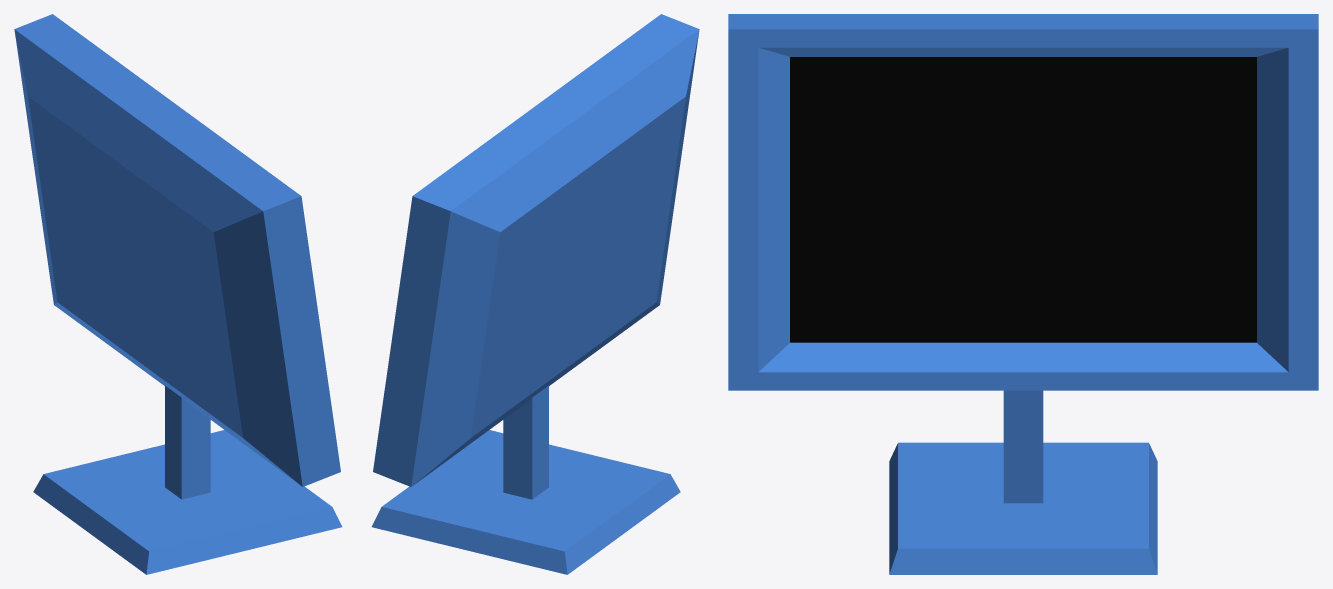
File: interface.glb
3 renders of one model, left to right at view 1: azimuth 30°, elevation 25°; view 2: azimuth 150°, elevation 25°; view 3: azimuth 270°, elevation 25°, orthographic. The views are drawn at different scales.
Parts seen in each view (by area): view 1: Cube; view 2: Cube; view 3: Cube.
Part boxes in pixels (x1=…): Cube: x1=14, y1=14, x2=342, y2=574; Cube: x1=371, y1=14, x2=699, y2=574; Cube: x1=728, y1=14, x2=1318, y2=574.
Bounding box in the file's own units: 1.42 × 2.82 × 3.13.
